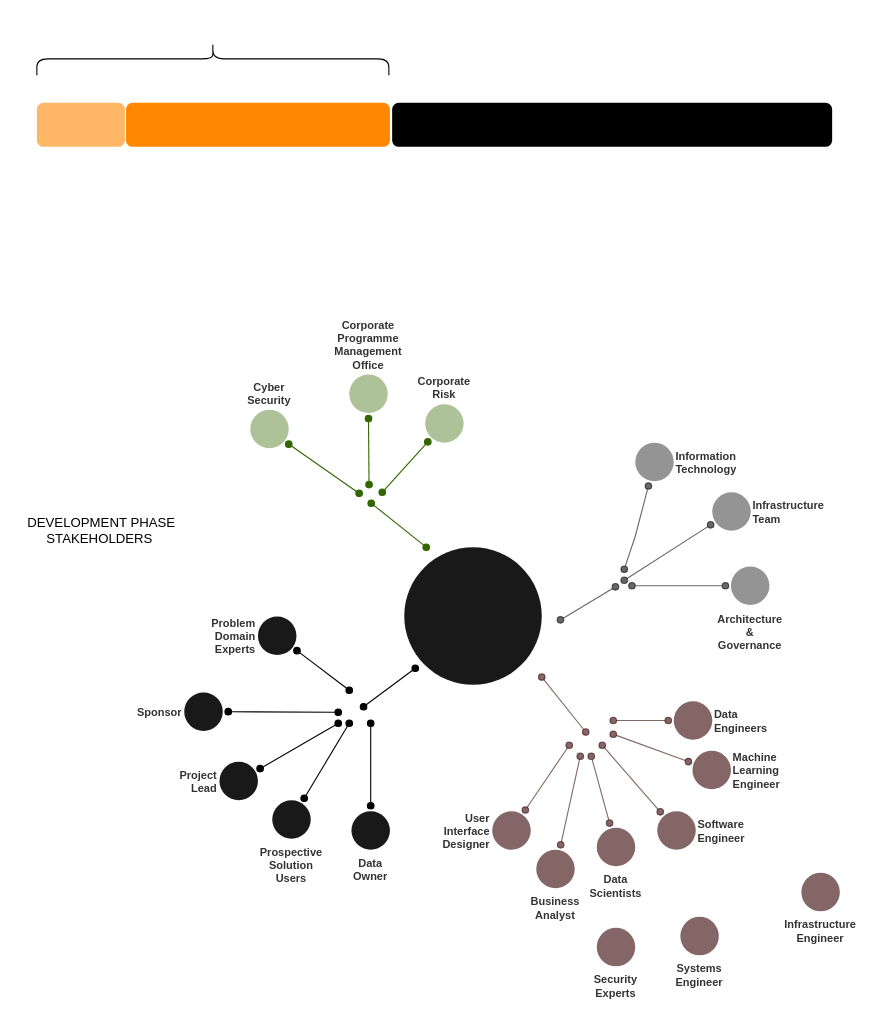
The diagram is 875 pixels wide and 1020 high, and some of its shapes have lost their labels. Here are the shapes that lost their labels. From the top down, the centre of each, then its label:
At pixel 212 58: "PROJECT MANAGER".
At pixel 472 615: "BUSINESS / SPONSORING TEAM".
